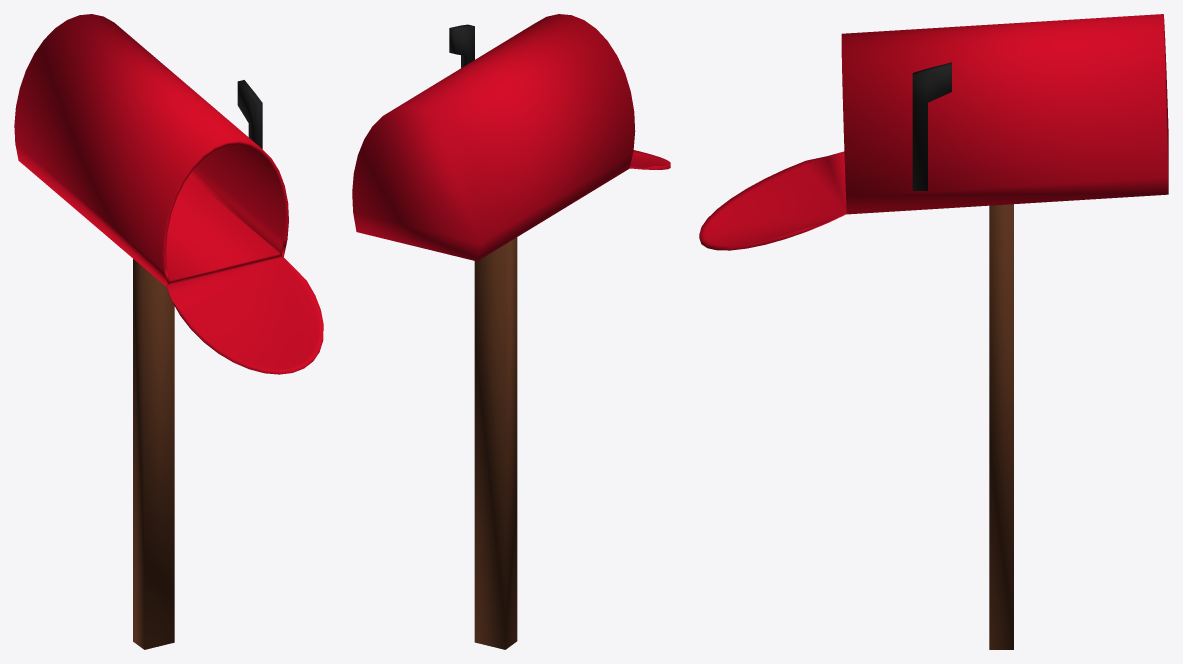
File: posta kutusu yeni.fbx
3 views of the same model, side by side, from view 1: azimuth 30°, elevation 25°; view 2: azimuth 150°, elevation 25°; view 3: azimuth 270°, elevation 25° (orthographic). The views are drawn at different scales.
Visible parts, largest first — view 1: Cube.004; view 2: Cube.004; view 3: Cube.004.
Part boxes in pixels (x1,y1,x2,y2): Cube.004: (14,14,323,649); Cube.004: (352,14,670,649); Cube.004: (699,14,1168,649).
Bounding box in the file's own units: 20.04 × 83.55 × 57.02.
1 material, 1 textured.
